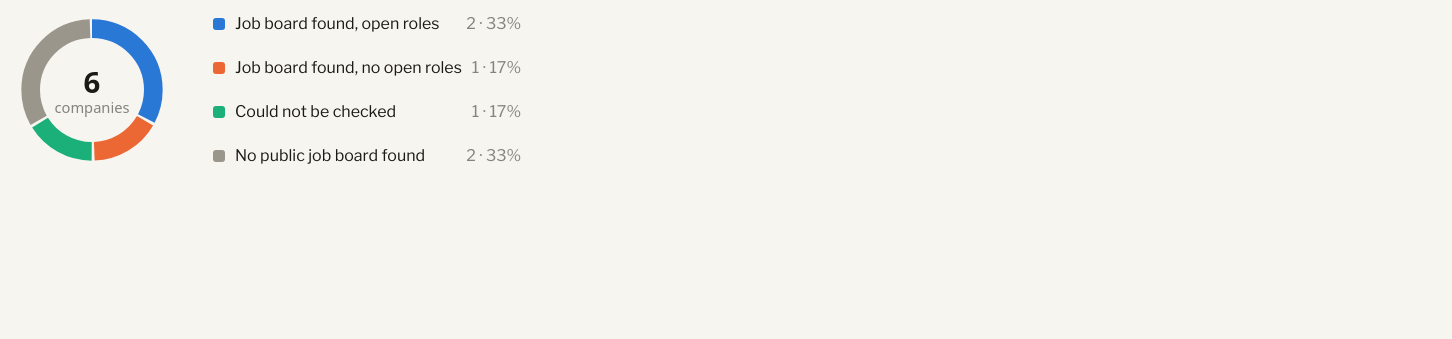
CompanyDonut › closes the list with an X, back to the clean view
The width and height of the screenshot is (1452, 339).
Click the button "No public job board found 2 · 33%" at x=367, y=156, box [204, 137, 530, 175]
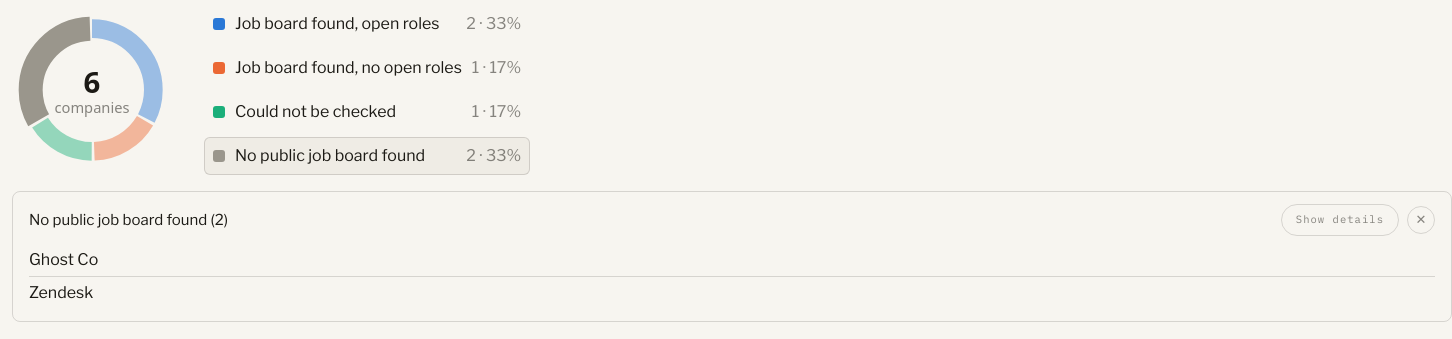
Expected: the text "Ghost Co" is shown, [29, 248, 98, 272]
Click the button named "Close list" at x=1421, y=220, box [1407, 206, 1435, 234]
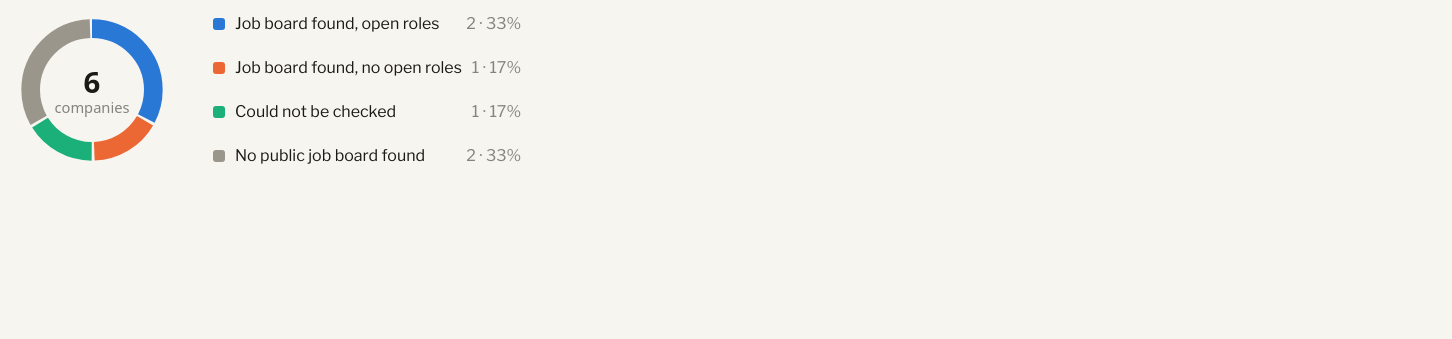
Expected: the text "Ghost Co" is gone
